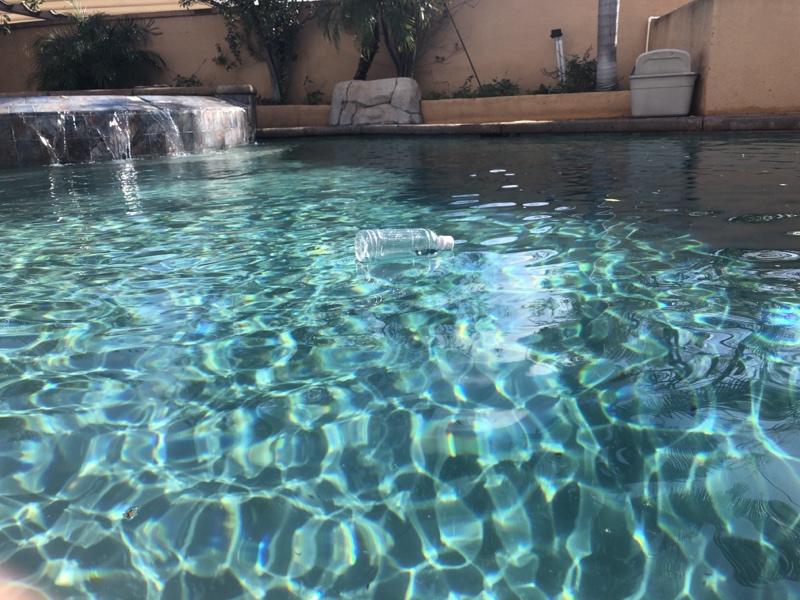Plastic Bottle: (350, 223, 458, 267)
